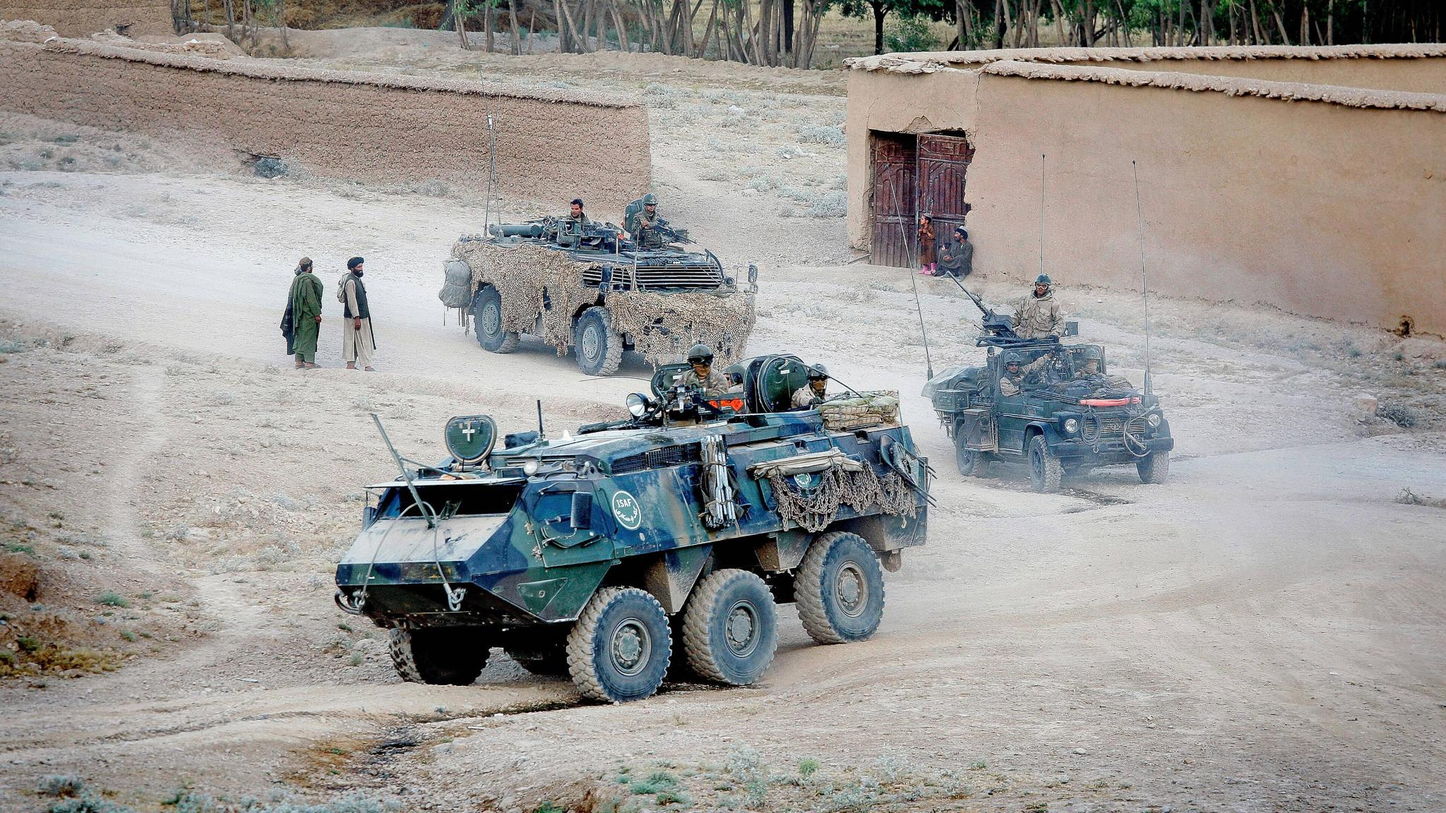armored_car: (920, 314, 1175, 494)
person: (272, 245, 333, 374), (330, 250, 385, 364)
tank: (317, 346, 944, 671), (427, 202, 765, 377)
